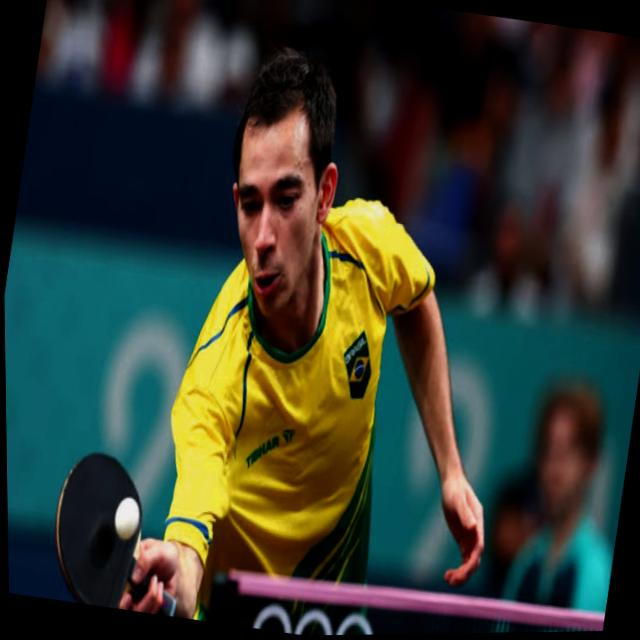TT Net: (206, 564, 605, 635)
TT Racket: (39, 430, 161, 608)
